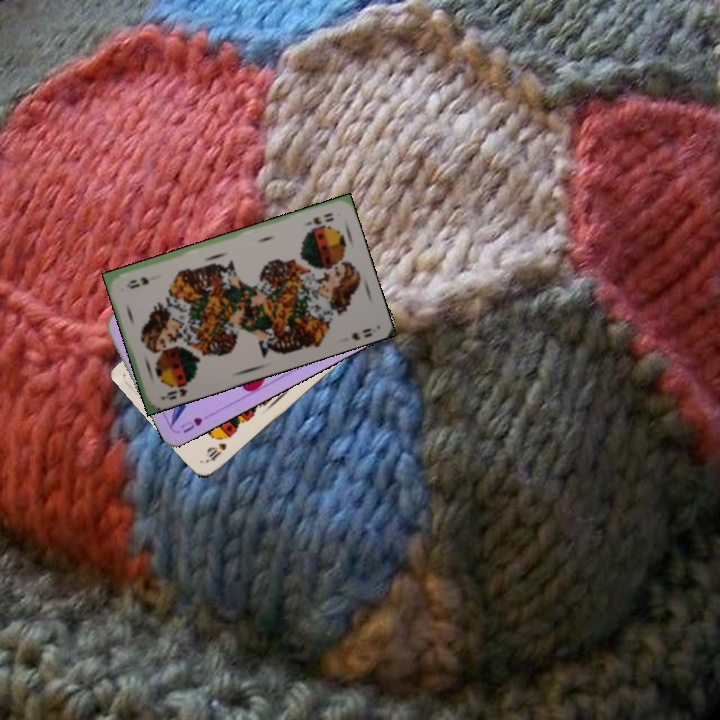HU: (177, 413, 205, 436)
S10: (202, 439, 229, 465)
SO: (158, 375, 195, 402), (301, 209, 337, 228)
